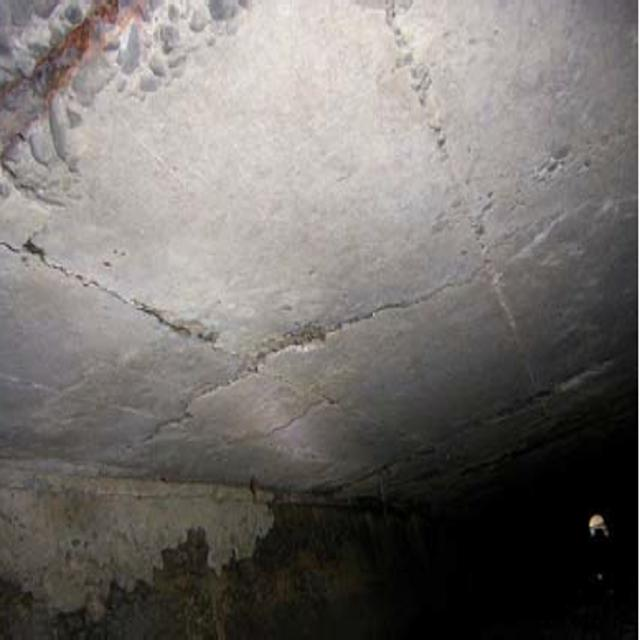crack: (401, 49, 536, 347), (28, 234, 253, 386)
spalling: (11, 3, 286, 181)
